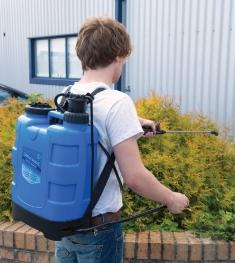PULVERISATEUR: (0, 90, 226, 263)
